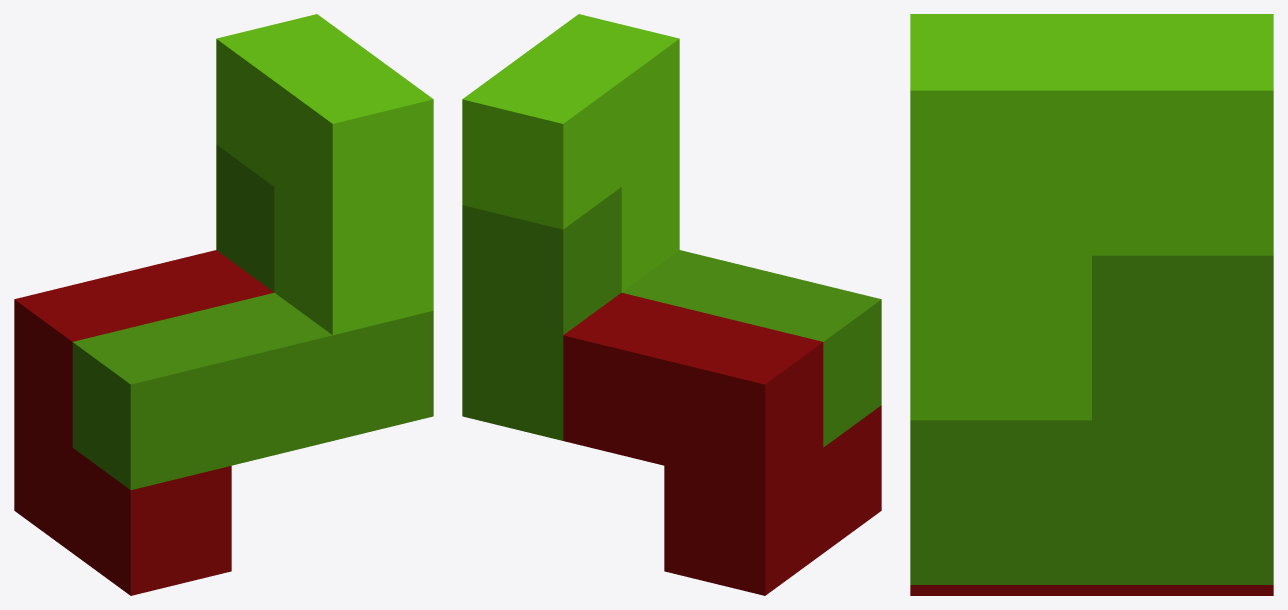
The picture shows the model from 3 angles, left to right: view 1: azimuth 30°, elevation 25°; view 2: azimuth 150°, elevation 25°; view 3: azimuth 270°, elevation 25°; orthographic projection. The views are drawn at different scales.
Parts seen in each view (by area): view 1: mergedBlocks(Clone); view 2: mergedBlocks(Clone); view 3: mergedBlocks(Clone).
Boxes of the visible parts, x1,y1,x2,y2 form: mergedBlocks(Clone): (14, 14, 433, 595); mergedBlocks(Clone): (462, 14, 881, 595); mergedBlocks(Clone): (910, 14, 1273, 595).
Bounding box in the file's own units: 3 × 4 × 2.
Materials: 3 (3 with a texture image).
